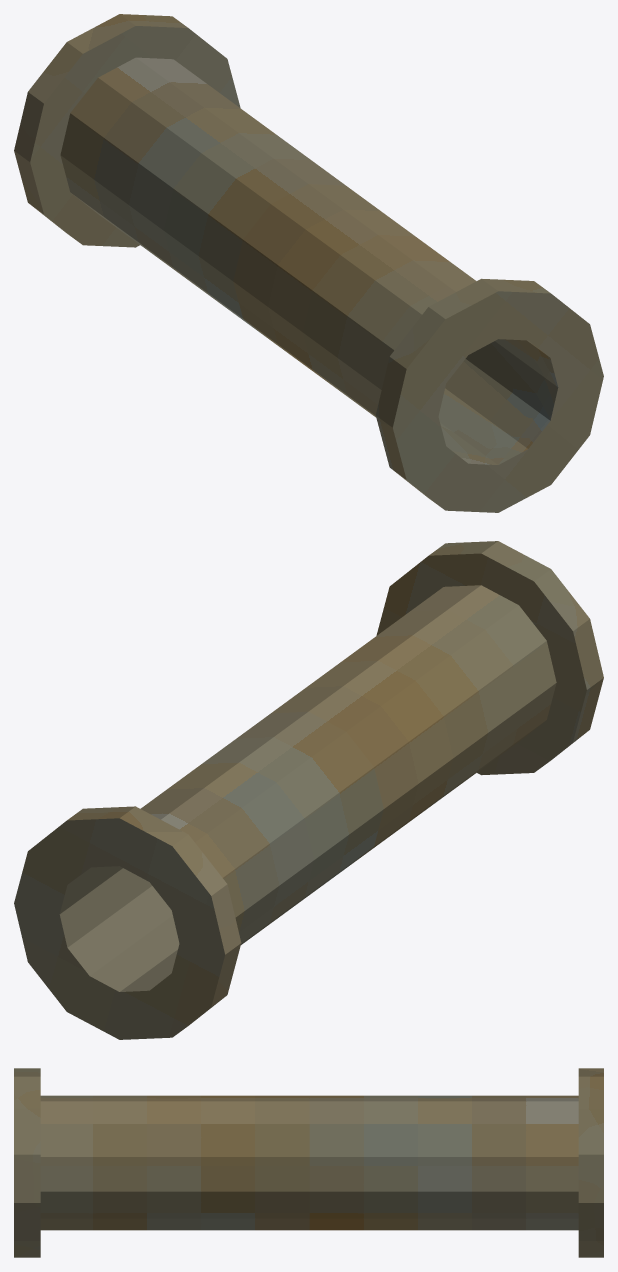
The model's file is pipe_straight.fbx.
The picture shows the model from 3 angles, top to bottom: view 1: azimuth 30°, elevation 25°; view 2: azimuth 150°, elevation 25°; view 3: azimuth 270°, elevation 25°; orthographic projection. The views are drawn at different scales.
Parts seen in each view (by area): view 1: pipe_straight; view 2: pipe_straight; view 3: pipe_straight.
Boxes of the visible parts, x1=… form: pipe_straight: x1=14, y1=14, x2=603, y2=512; pipe_straight: x1=14, y1=541, x2=603, y2=1039; pipe_straight: x1=14, y1=1068, x2=603, y2=1257.
Size of the model in its own units: 233 by 233 by 723.
Materials: 1 (1 with a texture image).
